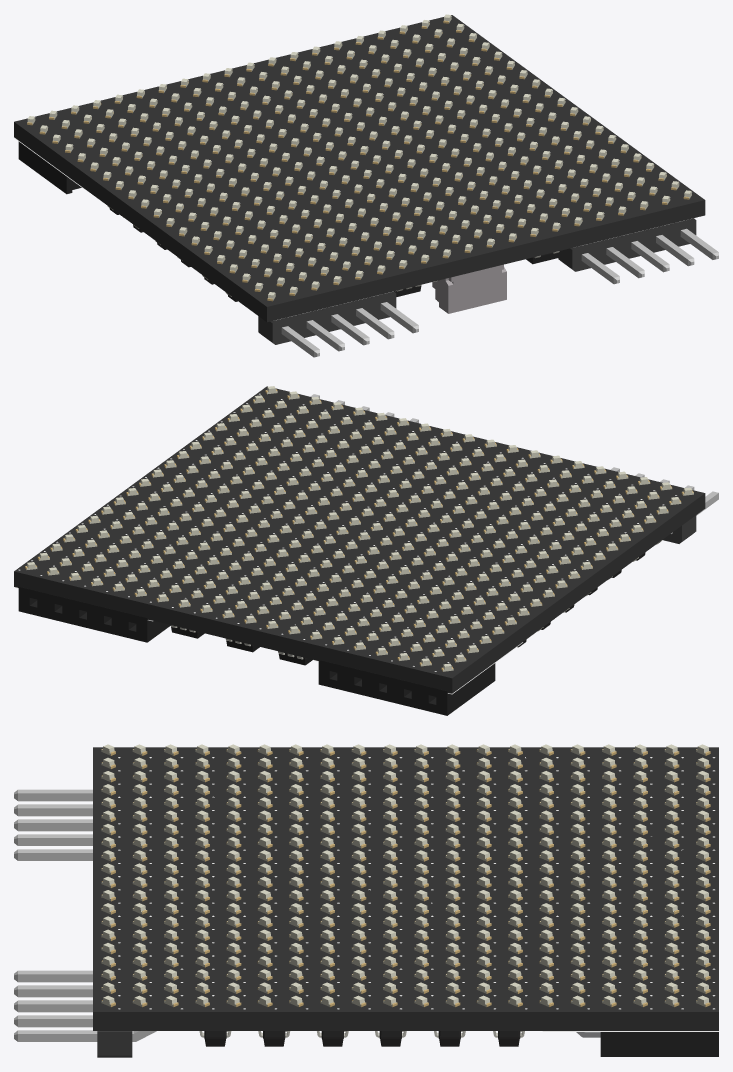
File: panel_rp2354_20x20-v0.5.2.glb
The picture shows the model from 3 angles, top to bottom: view 1: azimuth 30°, elevation 25°; view 2: azimuth 150°, elevation 25°; view 3: azimuth 270°, elevation 25°; orthographic projection. The views are drawn at different scales.
Visible parts, largest first — view 1: =>[0:1:1:38], insulation_001 (×2), =>[0:1:1:13], =>[0:1:1:35]; view 2: =>[0:1:1:38], =>[0:1:1:35] (×2), =>[0:1:1:36]; view 3: =>[0:1:1:38], =>[0:1:1:35], pin_005 (×2), pin_001 (×2), pin_002 (×2), pin_003 (×2), pin_004 (×2), =>[0:1:1:36], insulation_001.
Boxes of the visible parts, <box> form: =>[0:1:1:38]: <box>14,15,705,322</box>; insulation_001 (×2): <box>258,218,696,344</box>; =>[0:1:1:13]: <box>432,264,506,313</box>; =>[0:1:1:35]: <box>18,141,81,194</box>; =>[0:1:1:38]: <box>14,386,705,693</box>; =>[0:1:1:35] (×2): <box>18,587,495,715</box>; =>[0:1:1:36]: <box>18,393,676,671</box>; =>[0:1:1:38]: <box>93,747,718,1030</box>; =>[0:1:1:35]: <box>576,1032,718,1056</box>; pin_005 (×2): <box>14,849,156,1041</box>; pin_001 (×2): <box>14,789,92,982</box>; pin_002 (×2): <box>14,804,92,997</box>; pin_003 (×2): <box>14,819,92,1012</box>; pin_004 (×2): <box>14,834,92,1027</box>; =>[0:1:1:36]: <box>118,757,715,1009</box>; insulation_001: <box>97,1031,132,1057</box>.
Size of the model in its own units: 0.045 by 0.0065 by 0.0507.
